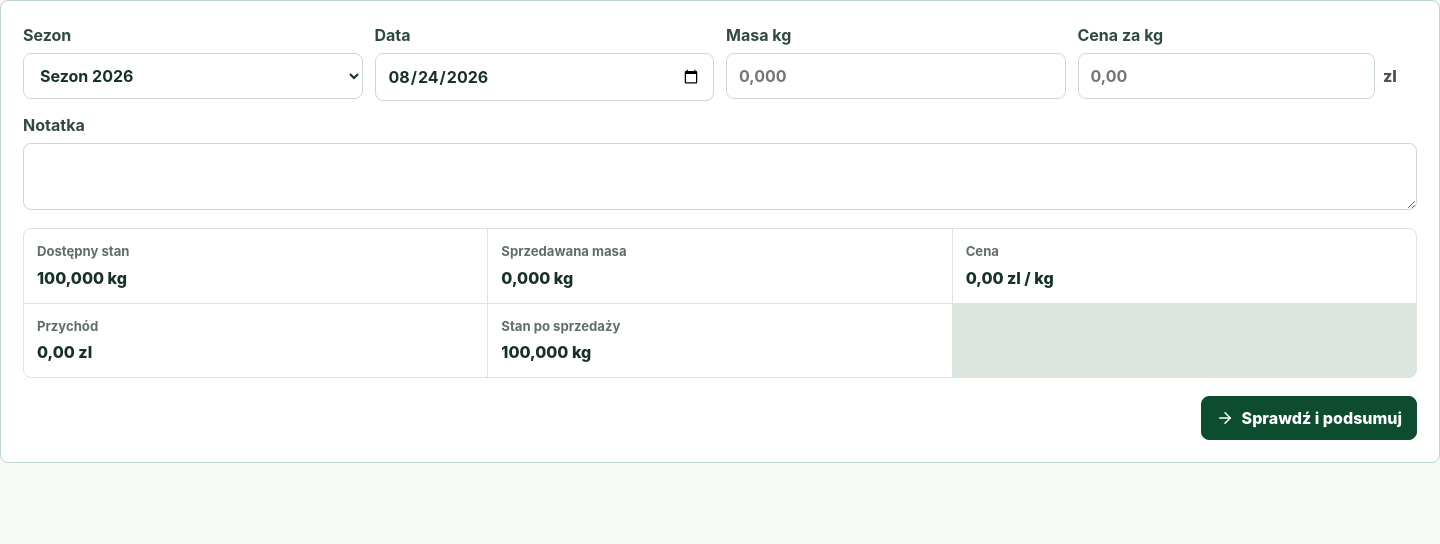
Scenario: OrdinarySaleForm › shows validation errors and does not prepare invalid input
Type "1,2345" into the field labelled "Masa kg" at (896, 76), box x1=726 y1=53 x2=1066 y2=99
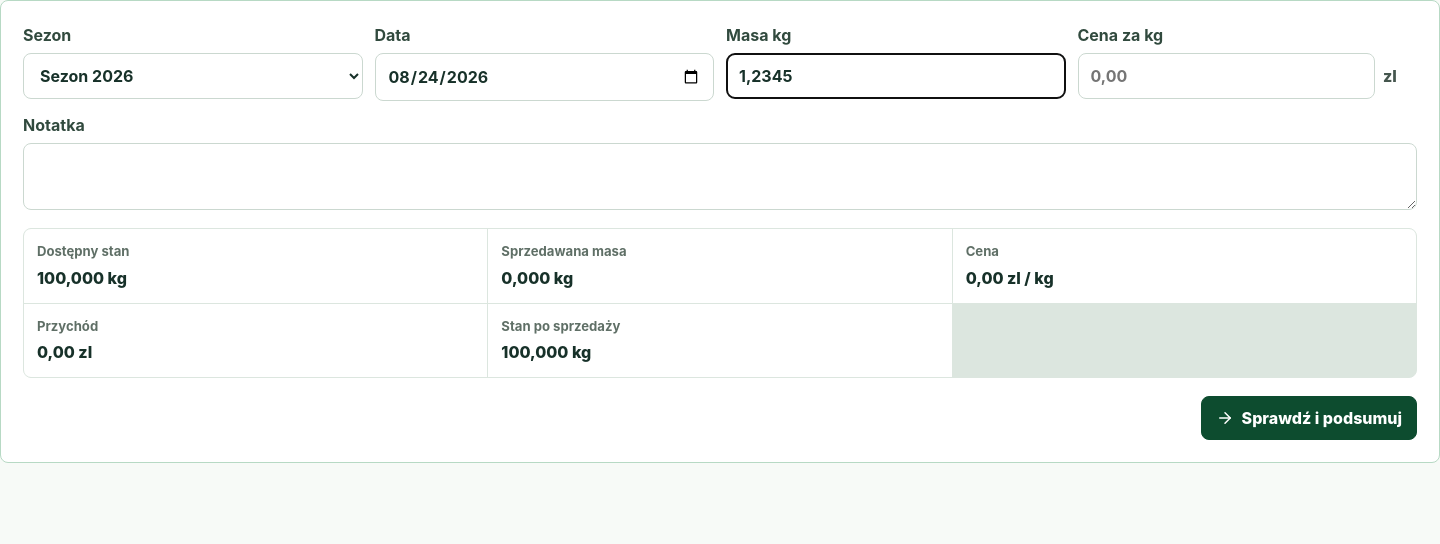
Type "10" into the field labelled "Cena za kg" at (1226, 76), box x1=1078 y1=53 x2=1375 y2=99
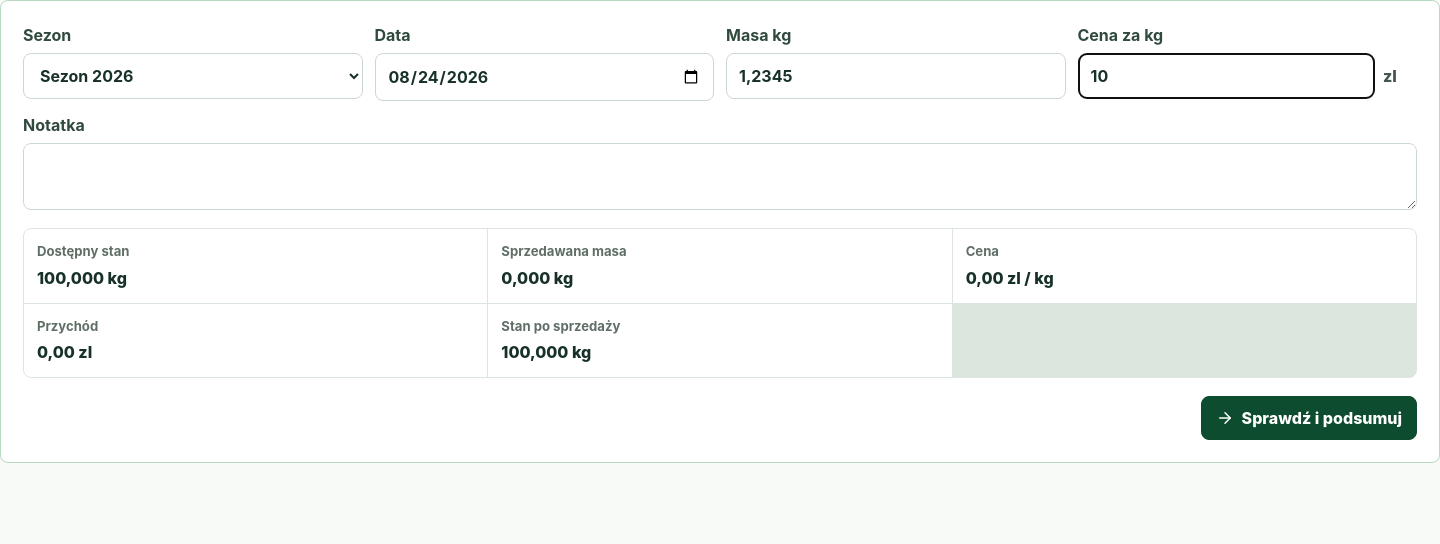
Click the button "Sprawdź i podsumuj" at (1309, 418), box x1=1201 y1=396 x2=1417 y2=440
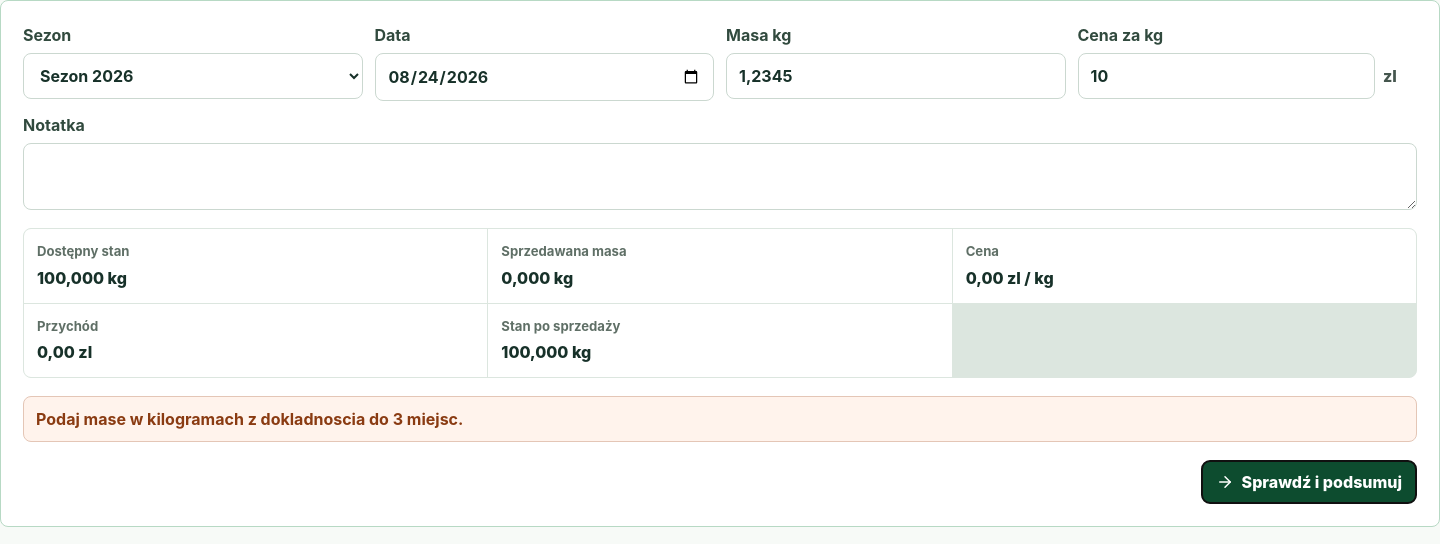
Expected: the text "Podaj mase w kilogramach z dokladnoscia do 3 miejsc." is shown, x1=23 y1=396 x2=1417 y2=442
